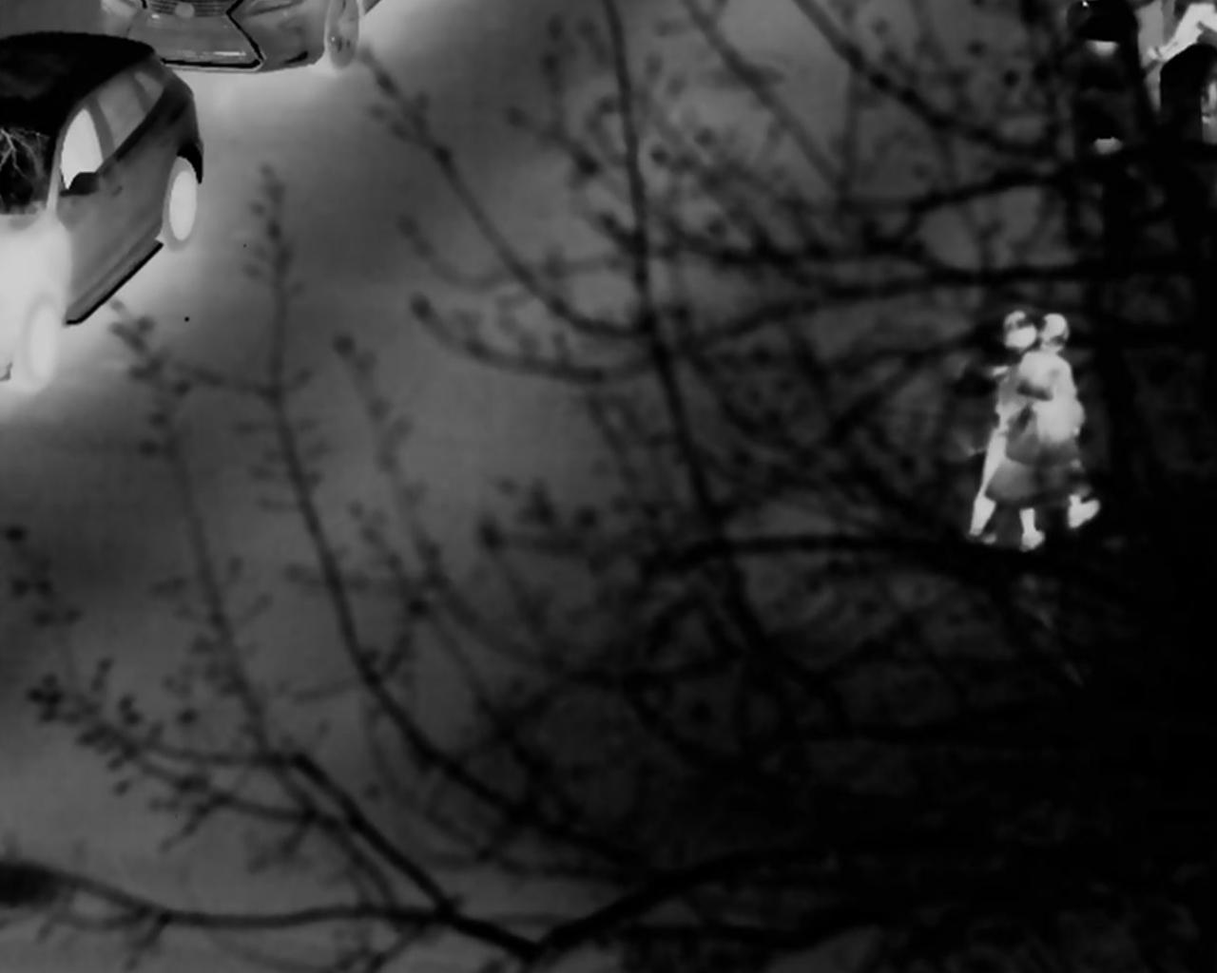person: (1006, 310, 1098, 555), (974, 310, 1050, 544)
